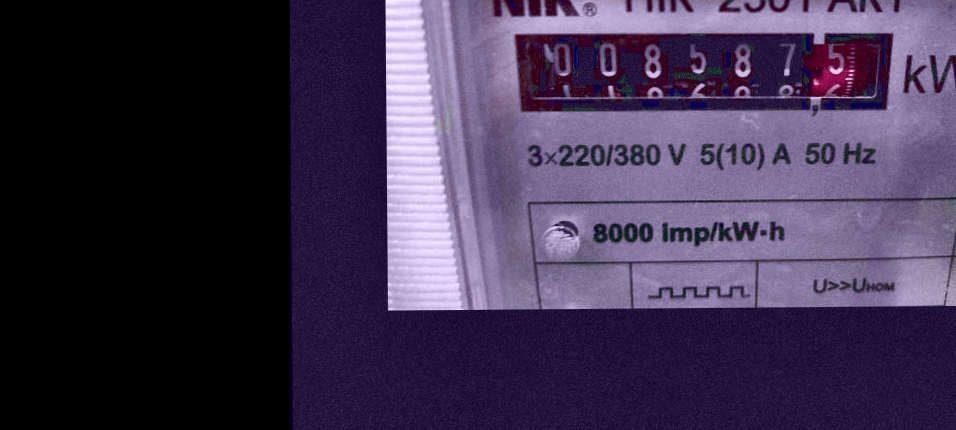0: (595, 38, 620, 78)
1: (549, 38, 574, 79)
5: (824, 37, 849, 77), (686, 38, 710, 76)
7: (775, 38, 799, 80)
8: (639, 40, 665, 81), (731, 39, 753, 80)
screen: (494, 10, 913, 133)
